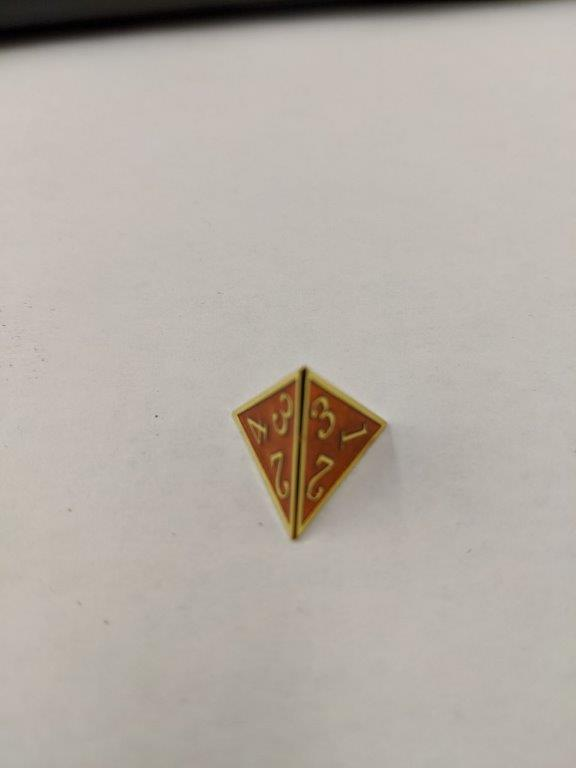d4-3: (231, 362, 390, 544)
